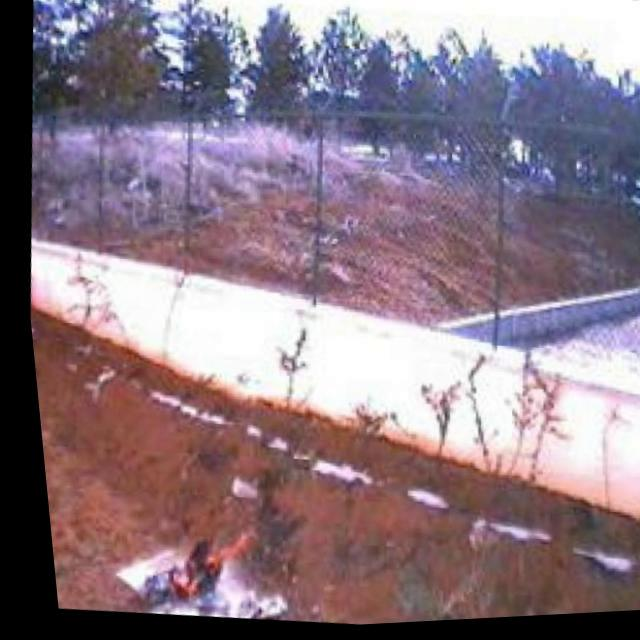fire: (135, 509, 253, 608)
